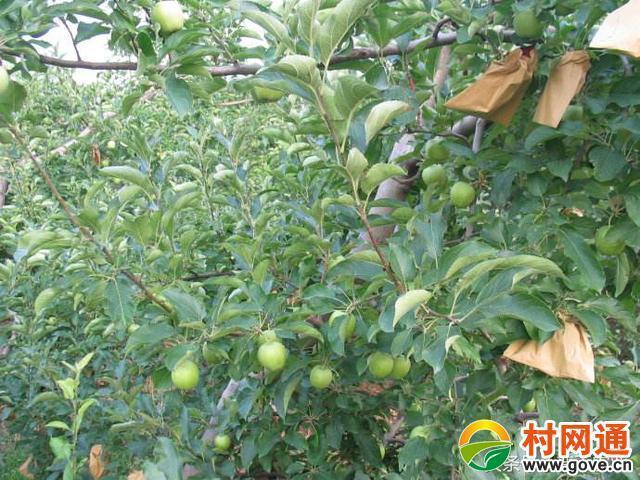apple: (151, 2, 185, 38), (256, 341, 287, 372), (170, 361, 199, 389), (449, 181, 474, 207), (370, 353, 393, 376), (309, 365, 331, 388), (390, 355, 410, 378)
